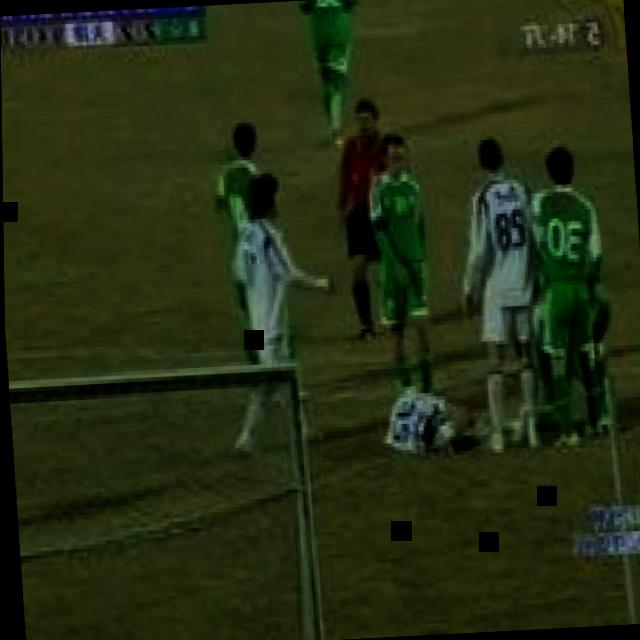Fall-Detected: (372, 360, 497, 459)
